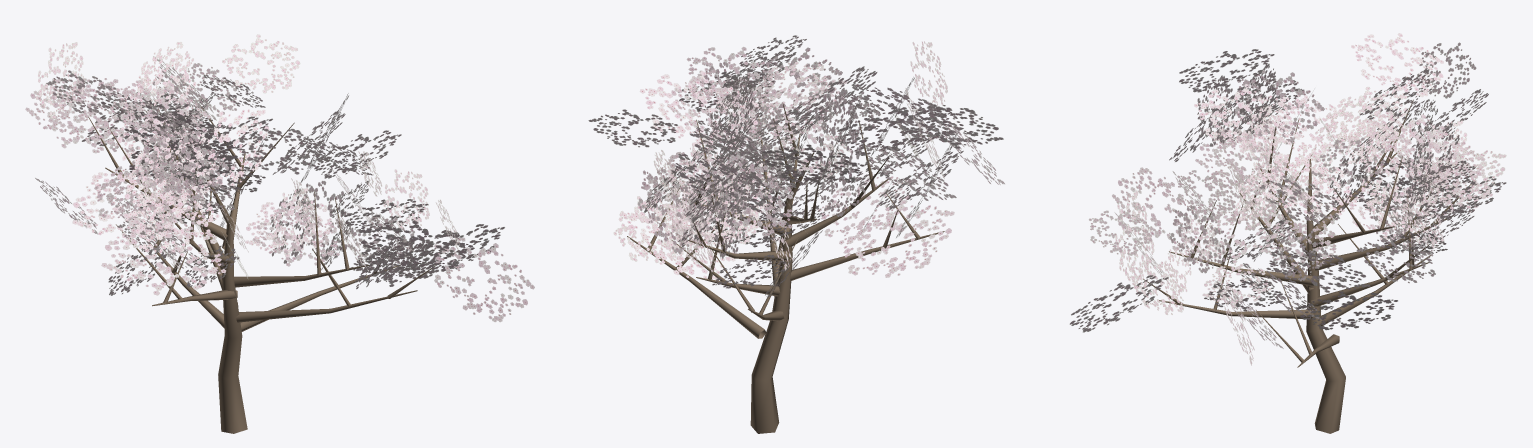
Rendered from sakura-19-low.glb.
3 renders of one model, left to right at view 1: azimuth 30°, elevation 25°; view 2: azimuth 150°, elevation 25°; view 3: azimuth 270°, elevation 25°, orthographic. The views are drawn at different scales.
Visible parts, largest first — view 1: LeafCards, Wood; view 2: LeafCards, Wood; view 3: LeafCards, Wood.
Boxes of the visible parts, left/top/right/bottom form: LeafCards: left=25, top=34, right=534, bottom=322; Wood: left=88, top=105, right=436, bottom=433; LeafCards: left=588, top=35, right=1004, bottom=298; Wood: left=627, top=102, right=944, bottom=433; LeafCards: left=1070, top=33, right=1506, bottom=365; Wood: left=1143, top=99, right=1475, bottom=433.
Size of the model in its own units: 9.07 by 8.88 by 10.37.
2 materials, 1 textured.
